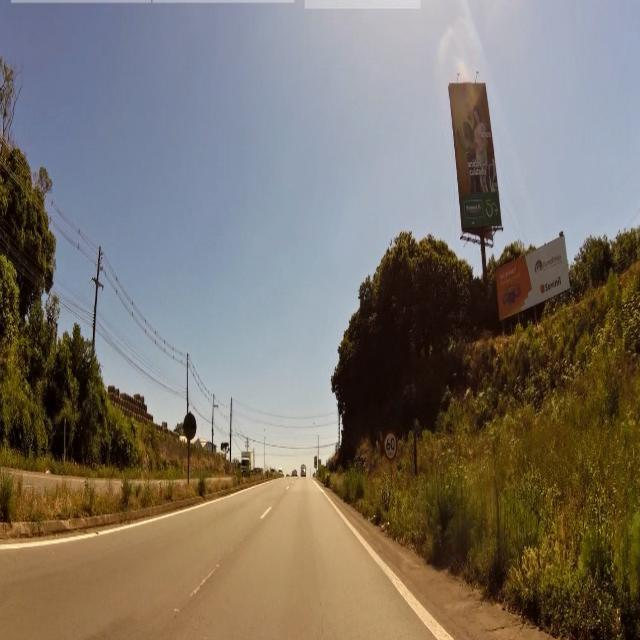R-19: (384, 431, 396, 461)
